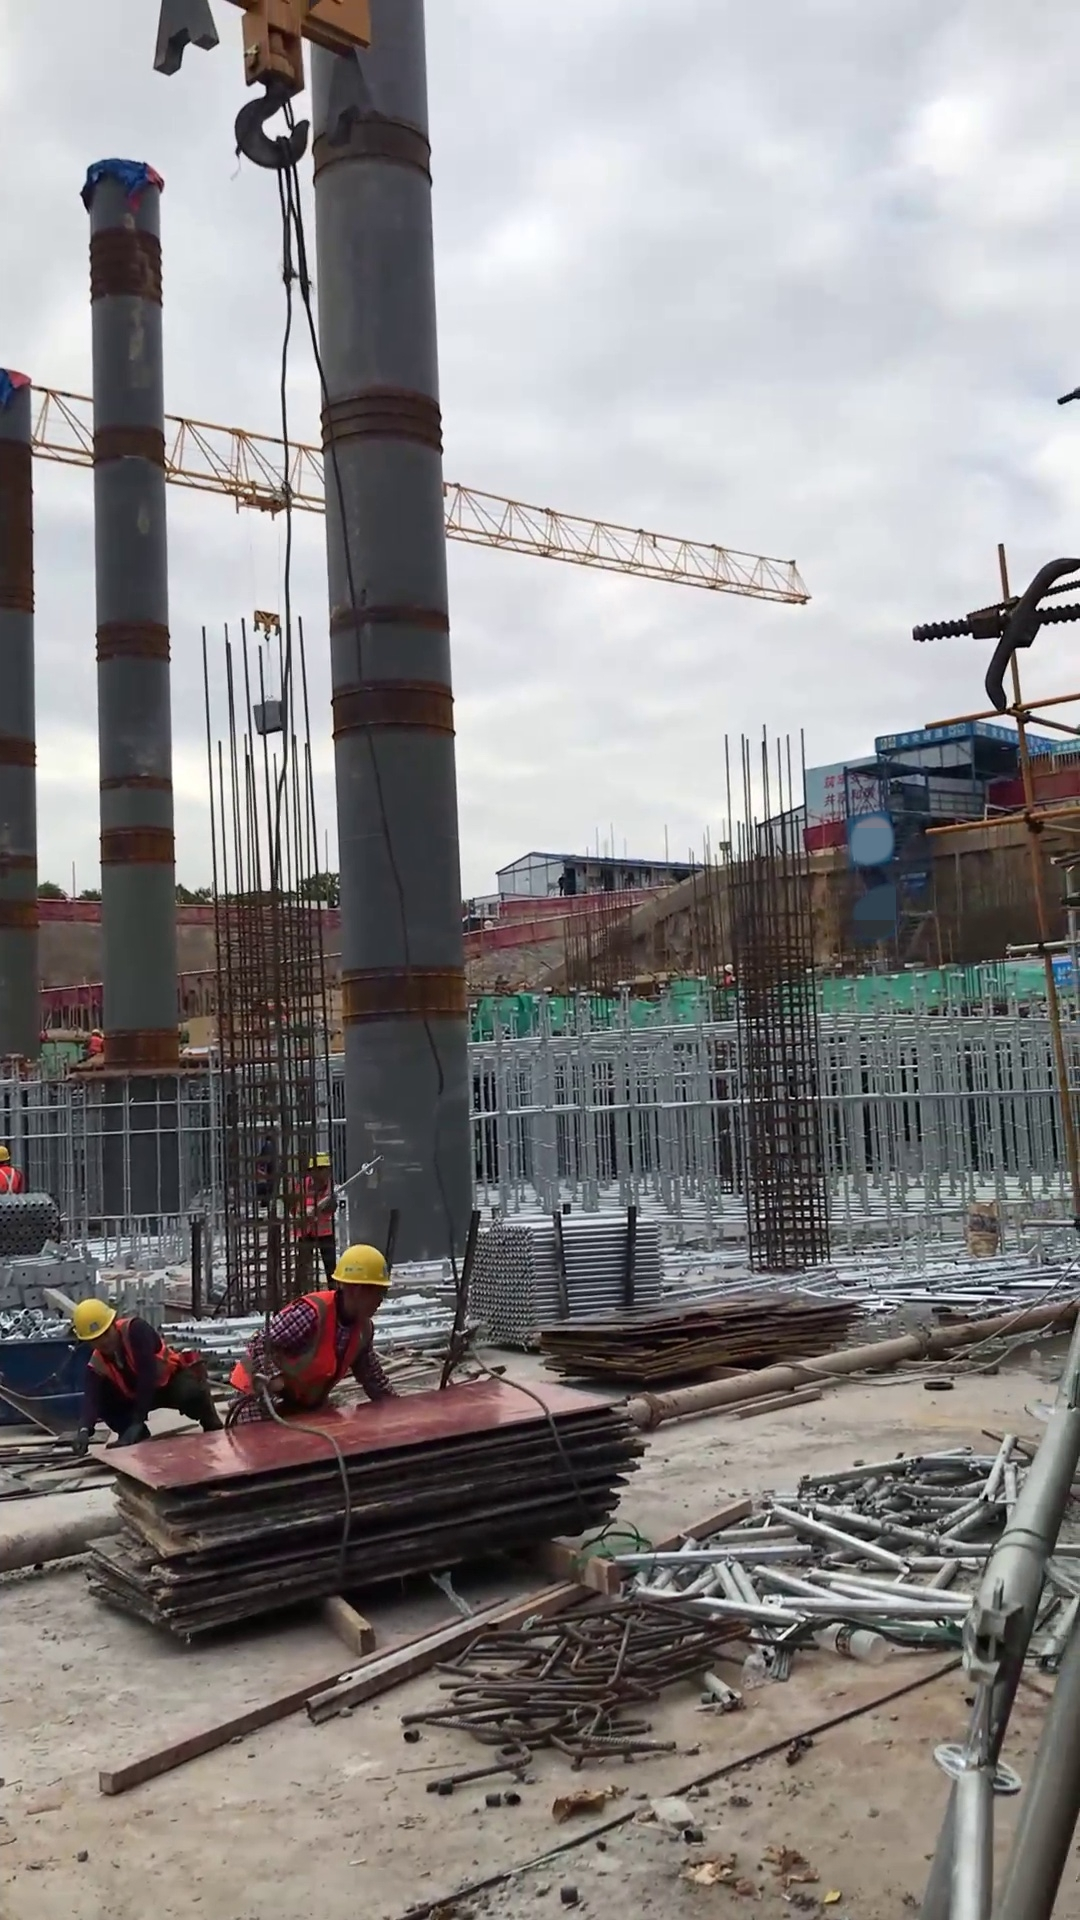board: (84, 1375, 649, 1635), (540, 1292, 862, 1379)
helmet: (328, 1245, 395, 1290), (70, 1298, 120, 1342), (306, 1151, 334, 1171), (1, 1145, 13, 1166), (723, 960, 735, 975), (91, 1027, 104, 1035)
hook: (150, 1, 394, 174), (253, 608, 284, 643)
hopper: (1, 1335, 101, 1431)
person: (227, 1242, 400, 1430), (71, 1296, 228, 1459), (286, 1149, 344, 1299), (1, 1144, 29, 1196), (86, 1026, 104, 1060)
scaffold: (461, 1211, 667, 1347), (151, 1304, 466, 1365), (1, 1191, 65, 1261)
slogan: (878, 723, 1080, 753), (816, 765, 884, 812), (1048, 952, 1076, 989)
vest: (227, 1288, 376, 1413), (86, 1313, 195, 1397), (290, 1167, 340, 1242), (1, 1162, 25, 1197), (89, 1035, 103, 1058)
